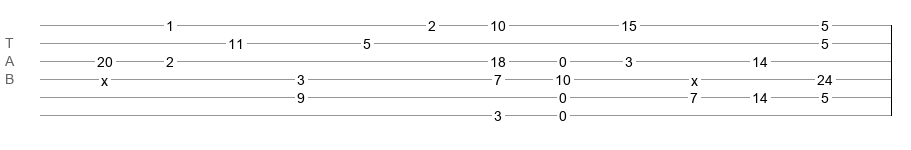0: (559, 54, 567, 64), (559, 108, 567, 118), (559, 90, 567, 100)
1: (166, 18, 174, 28)
10: (490, 18, 506, 28), (555, 72, 571, 82)
11: (228, 36, 244, 46)
14: (752, 90, 768, 100), (752, 54, 768, 64)
15: (621, 18, 637, 28)
18: (490, 54, 506, 64)
2: (166, 54, 174, 64), (428, 18, 436, 28)
20: (97, 54, 113, 64)
24: (817, 72, 833, 82)
3: (297, 72, 305, 82), (494, 108, 502, 118), (625, 54, 633, 64)
5: (363, 36, 371, 46), (821, 18, 829, 28), (821, 36, 829, 46), (821, 90, 829, 100)
7: (494, 72, 502, 82), (690, 90, 698, 100)
9: (297, 90, 305, 100)
x: (101, 73, 108, 81), (691, 73, 698, 81)
